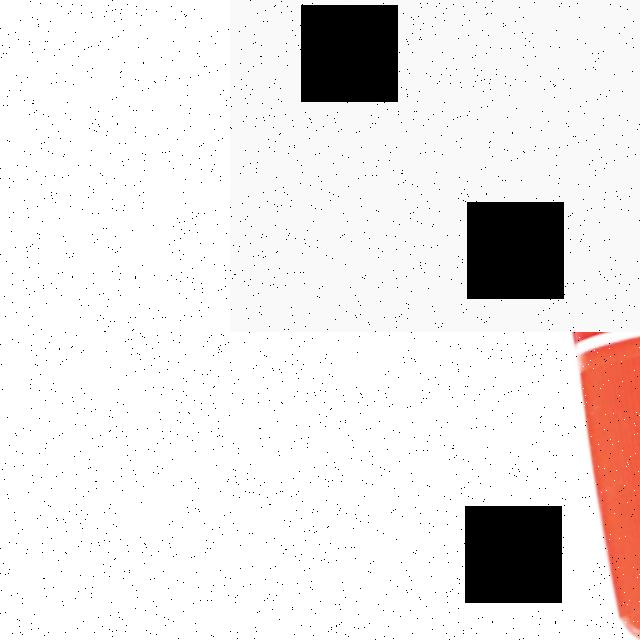GlueStickrotation: (497, 332, 640, 640)
Mechanical Pencilrotation: (230, 0, 640, 332)
PaperCliprotation: (0, 0, 230, 301)
Pencilrotation: (0, 332, 230, 640)
